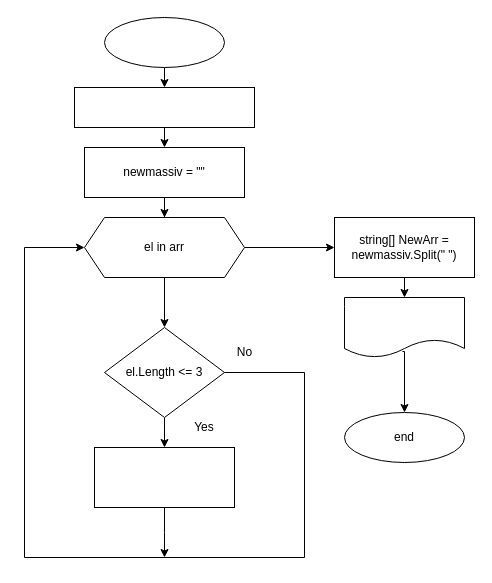
This 492x583 diagram has some shape labels left out. Each missing label, with the centre of its shape:
begin: [164,42]
newmassiv += el + " ": [164,477]
Print(NewArr): [404,327]
